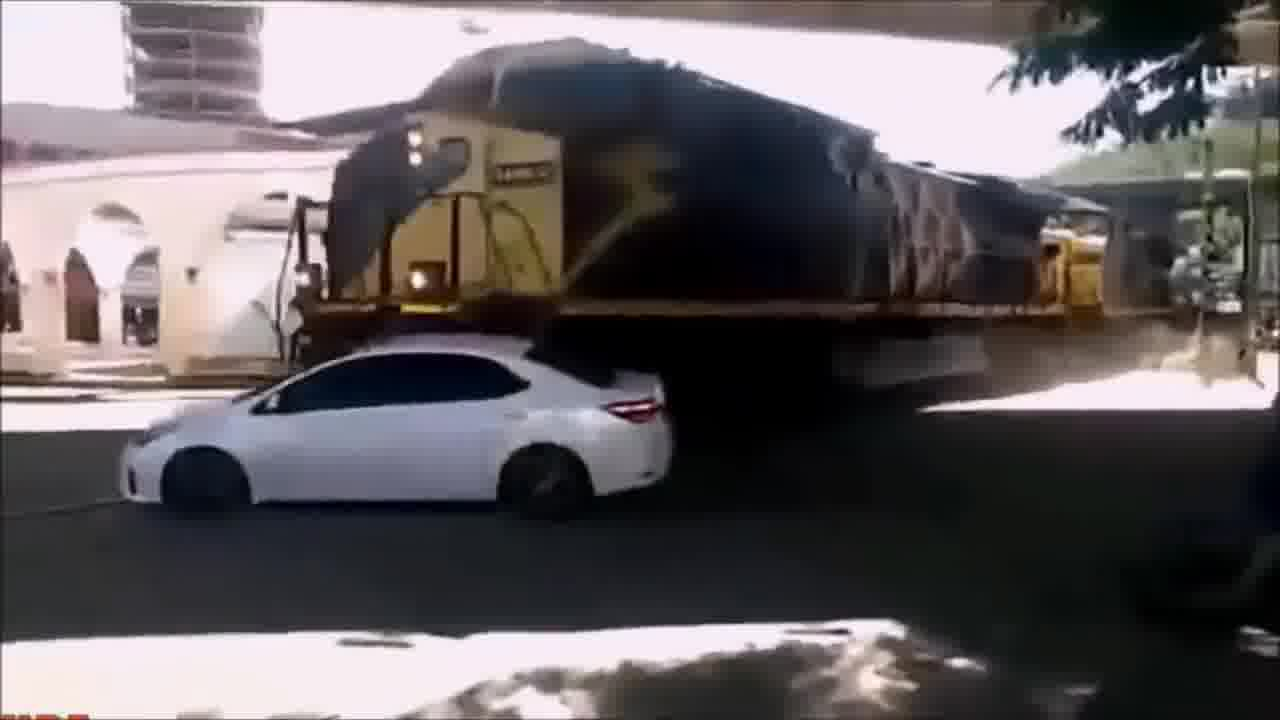crossing railway track: (71, 230, 705, 524)
